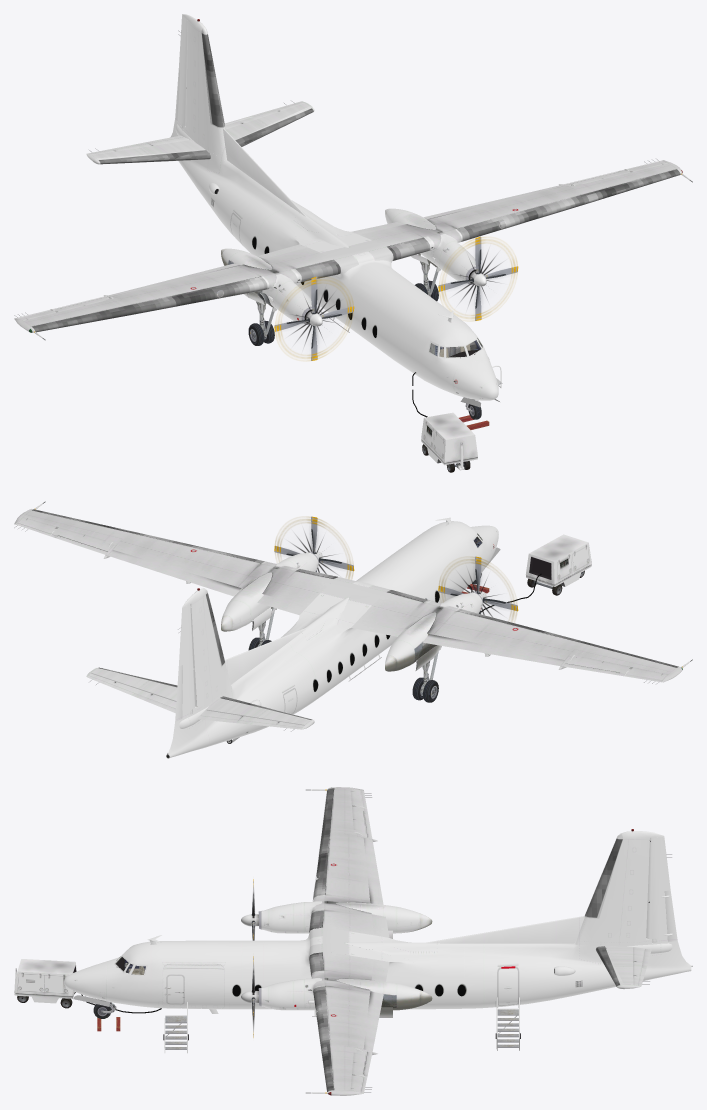
The model's file is f27-white-ext-v3.glb.
The picture shows the model from 3 angles, top to bottom: view 1: azimuth 30°, elevation 25°; view 2: azimuth 150°, elevation 25°; view 3: azimuth 270°, elevation 25°; orthographic projection. The views are drawn at different scales.
Parts seen in each view (by area): view 1: x0_FUSELAGE_Hublots, x0_FUSELAGE_FROST, x0_GPU, x0_RUDDER; view 2: x0_FUSELAGE_Hublots, x0_GPU, x0_FUSELAGE_FROST, x0_RUDDER, x0_FLAPS_Leftout, x0_FLAPS_RightOut, x0_AILERON_Left, x0_AILERON_Right, x0_ELEVATOR_Right, x0_ELEVATOR_Left, x0_FLAPS_RightIn, x0_FLAPS_LeftIn (+1 smaller); view 3: x0_FUSELAGE_Hublots, x0_FUSELAGE_FROST, x0_GPU, x0_FUSELAGE_DoorCargoExt, x0_RUDDER, x0_STAIRS_Aft, x0_FUSELAGE_DoorAft, x0_FLAPS_RightOut, x0_STAIRS_Fwd, x0_FLAPS_Leftout, x0_AILERON_Right, x0_AILERON_Left (+1 smaller).
Boxes of the visible parts, left/top/right/bottom form: x0_FUSELAGE_Hublots: left=14, top=14, right=692, bottom=400; x0_FUSELAGE_FROST: left=31, top=27, right=680, bottom=331; x0_GPU: left=421, top=412, right=477, bottom=472; x0_RUDDER: left=178, top=15, right=187, bottom=128; x0_FUSELAGE_Hublots: left=14, top=501, right=692, bottom=758; x0_GPU: left=525, top=534, right=591, bottom=595; x0_FUSELAGE_FROST: left=31, top=509, right=678, bottom=723; x0_RUDDER: left=178, top=604, right=195, bottom=718; x0_FLAPS_Leftout: left=108, top=550, right=242, bottom=596; x0_FLAPS_RightOut: left=422, top=634, right=564, bottom=665; x0_AILERON_Left: left=18, top=517, right=112, bottom=551; x0_AILERON_Right: left=566, top=656, right=667, bottom=680; x0_ELEVATOR_Right: left=197, top=710, right=304, bottom=731; x0_ELEVATOR_Left: left=87, top=673, right=176, bottom=708; x0_FLAPS_RightIn: left=351, top=619, right=406, bottom=636; x0_FLAPS_LeftIn: left=257, top=594, right=307, bottom=615; x0_FUSELAGE_Hublots: left=64, top=787, right=691, bottom=1095; x0_FUSELAGE_FROST: left=309, top=788, right=624, bottom=1091; x0_GPU: left=14, top=959, right=76, bottom=1008; x0_FUSELAGE_DoorCargoExt: left=163, top=964, right=224, bottom=1008; x0_RUDDER: left=646, top=837, right=671, bottom=942; x0_STAIRS_Aft: left=495, top=997, right=520, bottom=1050; x0_FUSELAGE_DoorAft: left=498, top=967, right=518, bottom=1005; x0_FLAPS_RightOut: left=363, top=838, right=383, bottom=904; x0_STAIRS_Fwd: left=163, top=1002, right=188, bottom=1053; x0_FLAPS_Leftout: left=363, top=991, right=383, bottom=1051; x0_AILERON_Right: left=350, top=788, right=367, bottom=837; x0_AILERON_Left: left=350, top=1049, right=367, bottom=1092.
Size of what is drawn, in the model's own units: 28.92 by 8.64 by 27.02.
16 materials, 12 textured.
